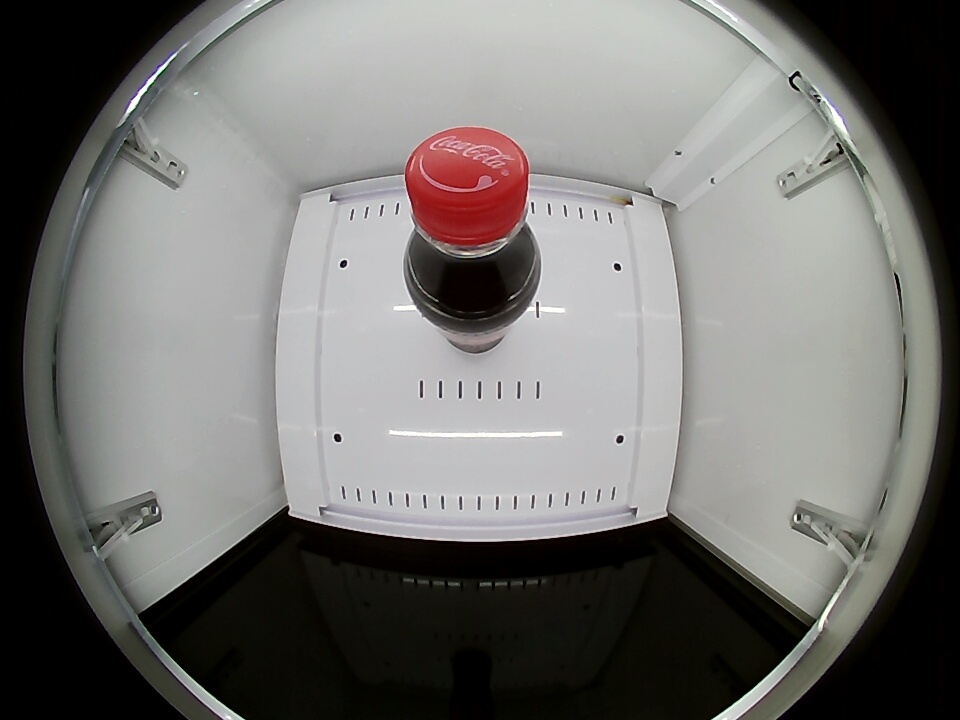kele-b: (403, 127, 539, 312)
